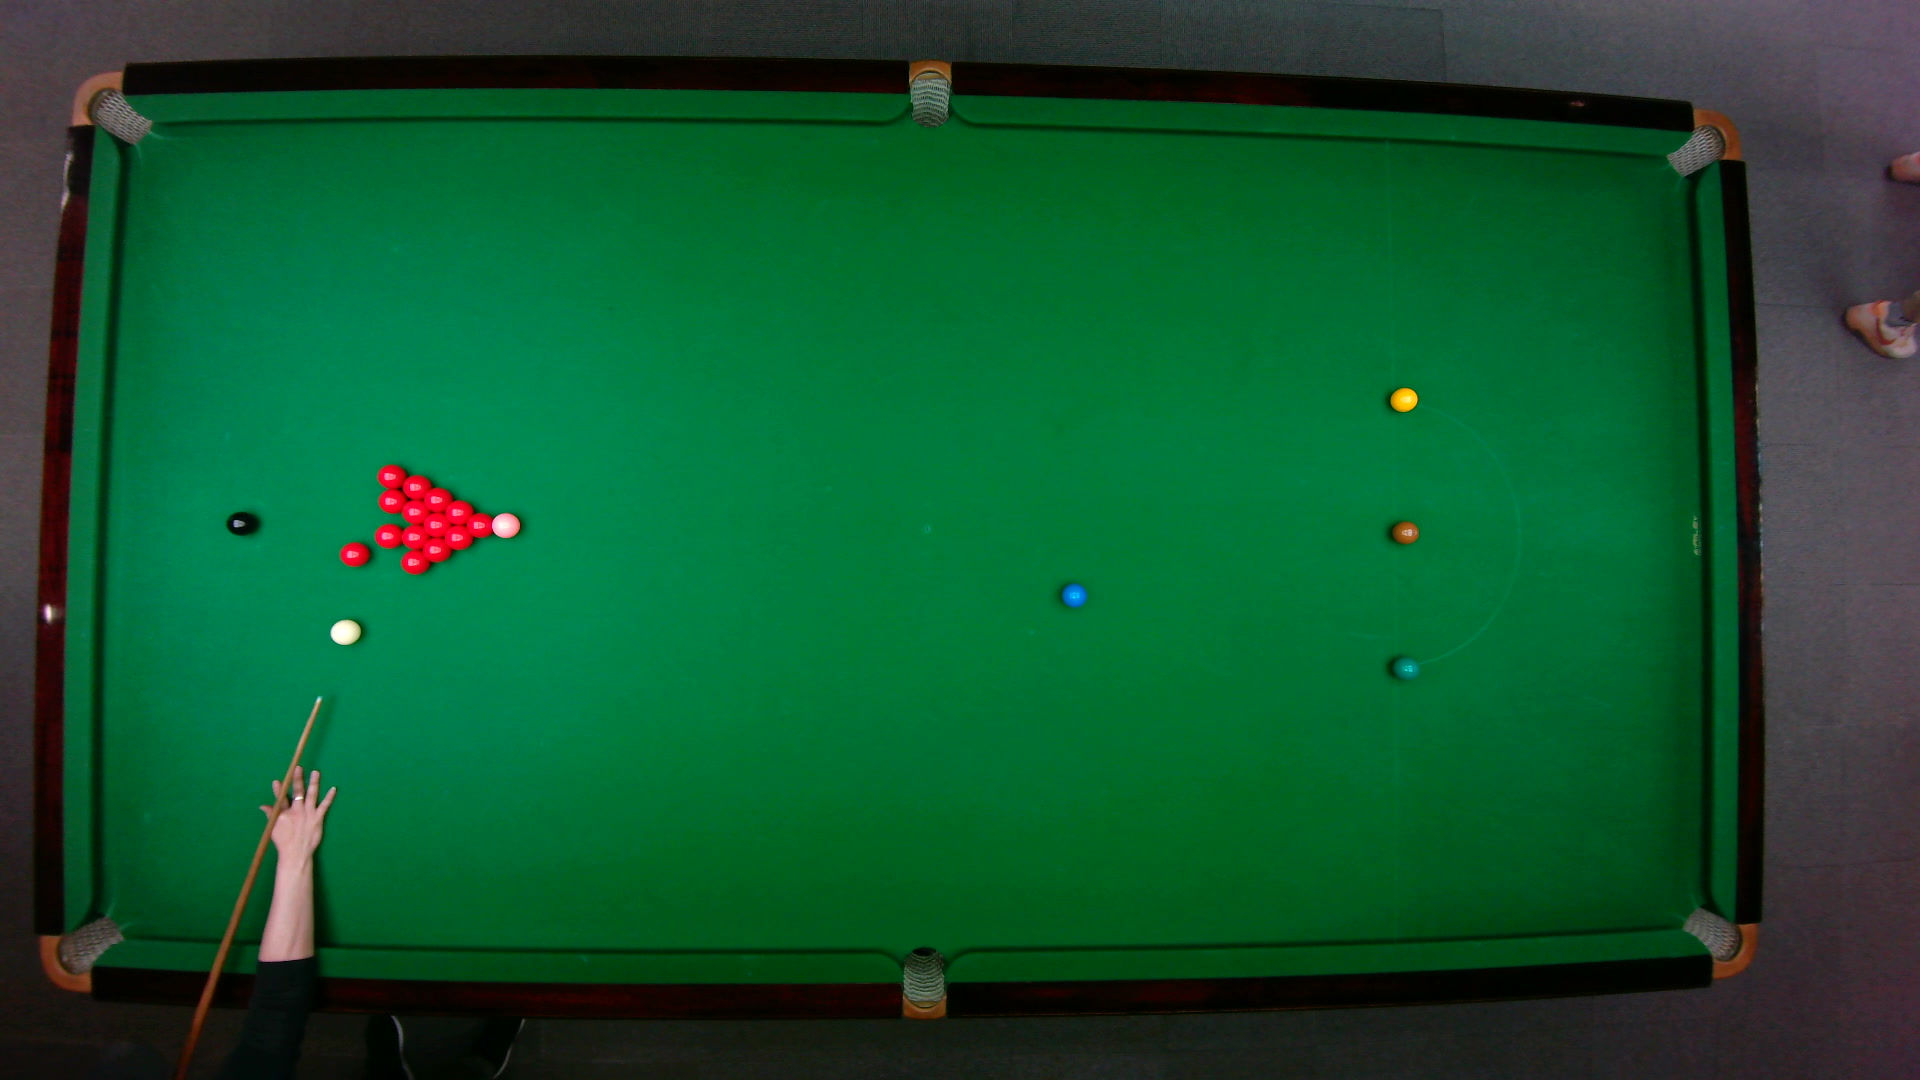bag: (37, 914, 127, 992), (69, 70, 156, 146), (1679, 905, 1759, 980), (1664, 107, 1743, 178), (902, 945, 945, 1021), (909, 58, 952, 129)
black: (224, 509, 258, 538)
blue: (1059, 582, 1089, 609)
brown: (1390, 520, 1422, 545)
cue: (171, 694, 327, 1080)
green: (1389, 654, 1422, 682)
pink: (491, 510, 524, 541)
red: (398, 549, 433, 578), (338, 541, 373, 568), (375, 463, 410, 489), (443, 525, 476, 553), (376, 489, 410, 516), (465, 512, 496, 541), (443, 498, 476, 525), (422, 487, 455, 513), (421, 538, 454, 564), (401, 473, 434, 500), (400, 500, 433, 525), (373, 522, 402, 550), (422, 513, 454, 538), (400, 525, 430, 549)
white: (328, 617, 363, 647)
yellow: (1389, 386, 1420, 414)
zone: (1389, 400, 1520, 667)
